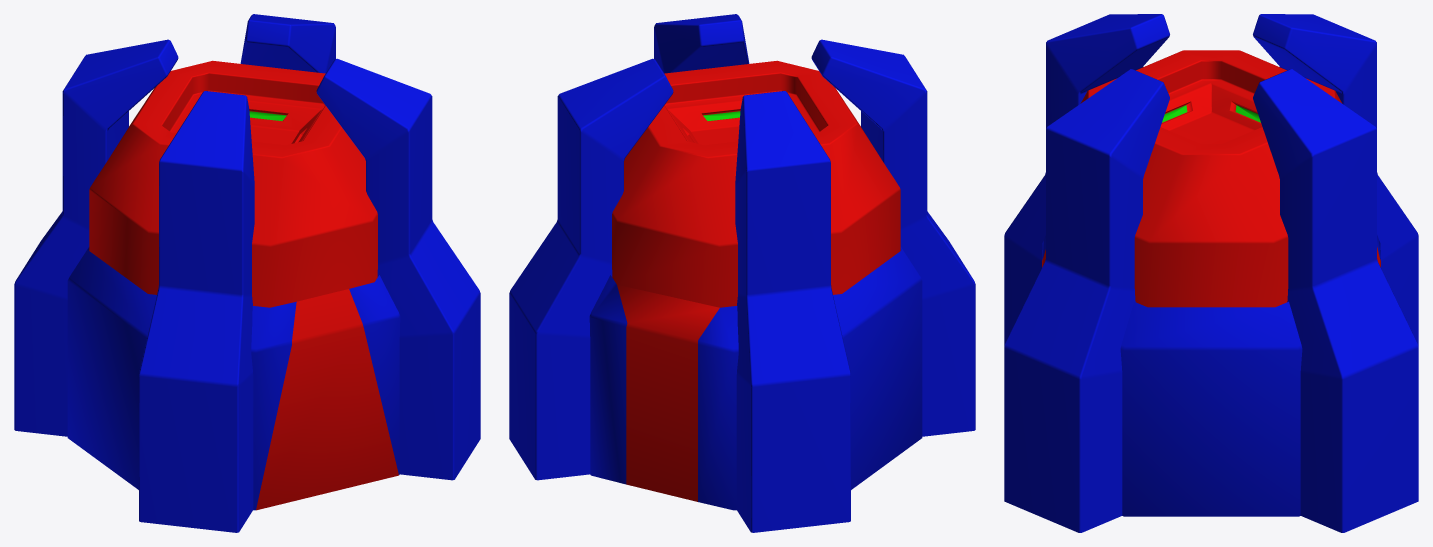
Rendered from Trap_Base_A.fbx.
3 renders of one model, left to right at view 1: azimuth 30°, elevation 25°; view 2: azimuth 150°, elevation 25°; view 3: azimuth 270°, elevation 25°, orthographic. The views are drawn at different scales.
Visible parts, largest first — view 1: Trap_Base_A; view 2: Trap_Base_A; view 3: Trap_Base_A.
Boxes of the visible parts, x1,y1,x2,y2 form: Trap_Base_A: (14, 14, 480, 532); Trap_Base_A: (509, 14, 975, 532); Trap_Base_A: (1004, 14, 1418, 532).
Bounding box in the file's own units: 262 × 277 × 262.
